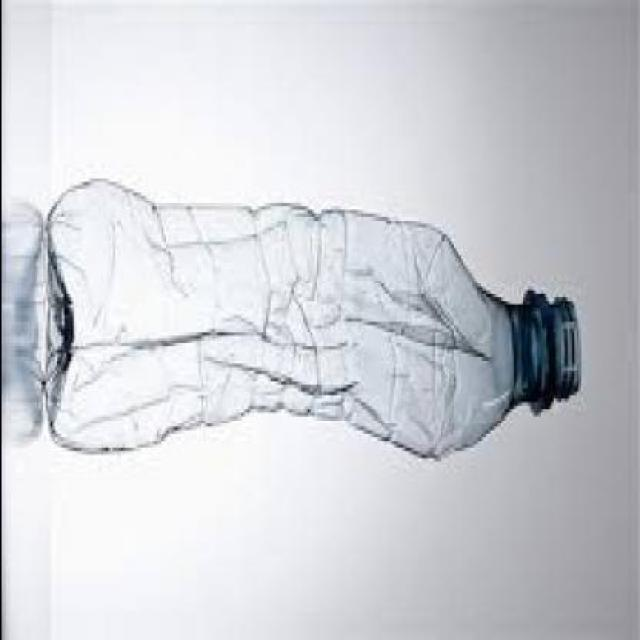PLASTIC: (41, 182, 582, 468)
